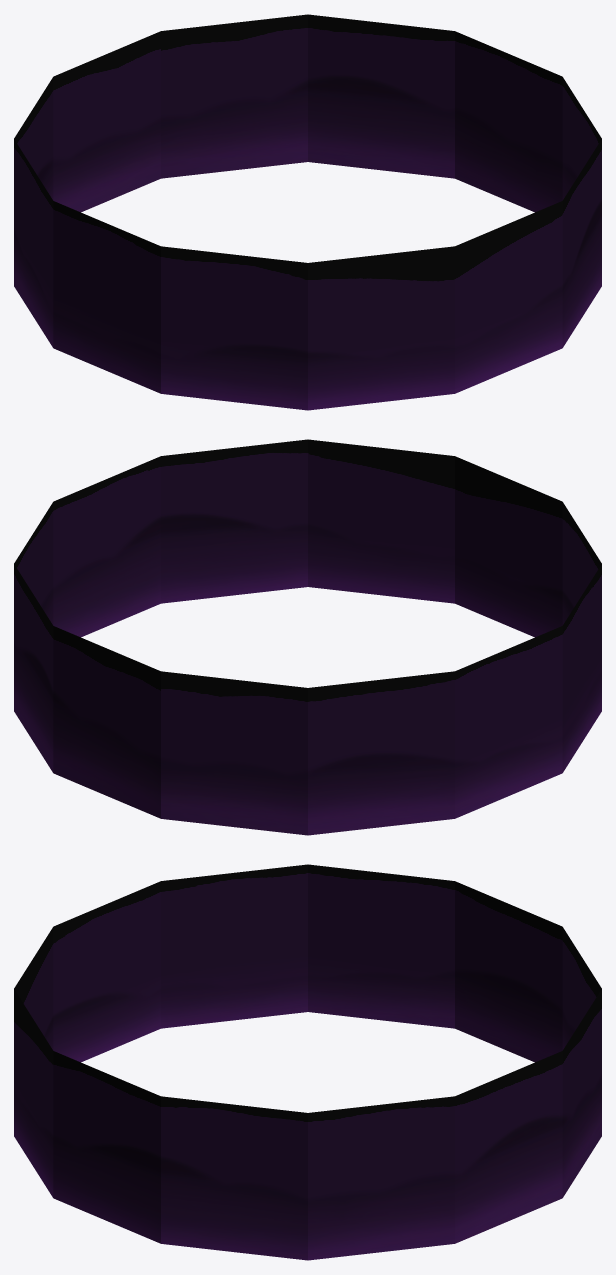
File: BackMountain.fbx
3 views of the same model, one above another, from view 1: azimuth 30°, elevation 25°; view 2: azimuth 150°, elevation 25°; view 3: azimuth 270°, elevation 25° (orthographic).
Parts seen in each view (by area): view 1: pCylinder1; view 2: pCylinder1; view 3: pCylinder1.
Boxes of the visible parts, box(x1,y1,x2,y2) form: pCylinder1: box(14, 14, 601, 410); pCylinder1: box(14, 439, 601, 835); pCylinder1: box(14, 864, 601, 1260).
Size of the model in its own units: 56.68 by 15.69 by 56.68.
